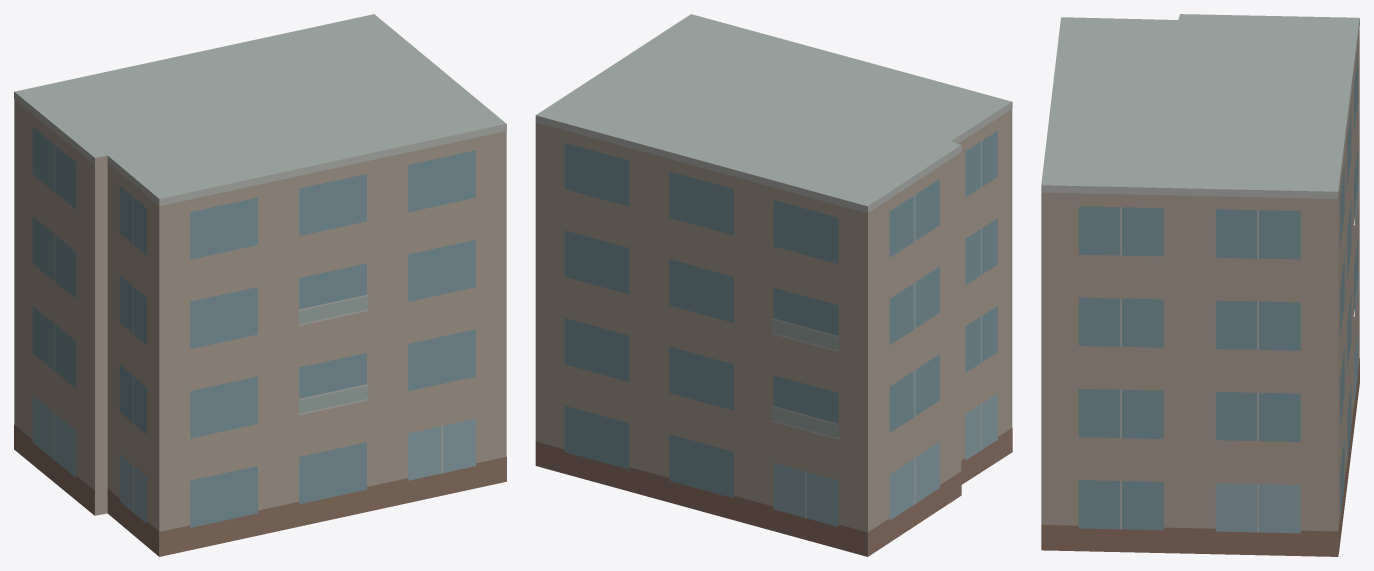
The model's file is survey-upis-32662388.glb.
3 views of the same model, side by side, from view 1: azimuth 30°, elevation 25°; view 2: azimuth 150°, elevation 25°; view 3: azimuth 270°, elevation 25° (orthographic). The views are drawn at different scales.
Visible parts, largest first — view 1: survey-upis-32662388.tmp; view 2: survey-upis-32662388.tmp; view 3: survey-upis-32662388.tmp.
Part boxes in pixels (left/top/right/bottom): survey-upis-32662388.tmp: left=14, top=14, right=506, bottom=556; survey-upis-32662388.tmp: left=535, top=14, right=1012, bottom=556; survey-upis-32662388.tmp: left=1041, top=14, right=1359, bottom=556.
Size of the model in its own units: 12.75 by 12.2 by 9.66.
